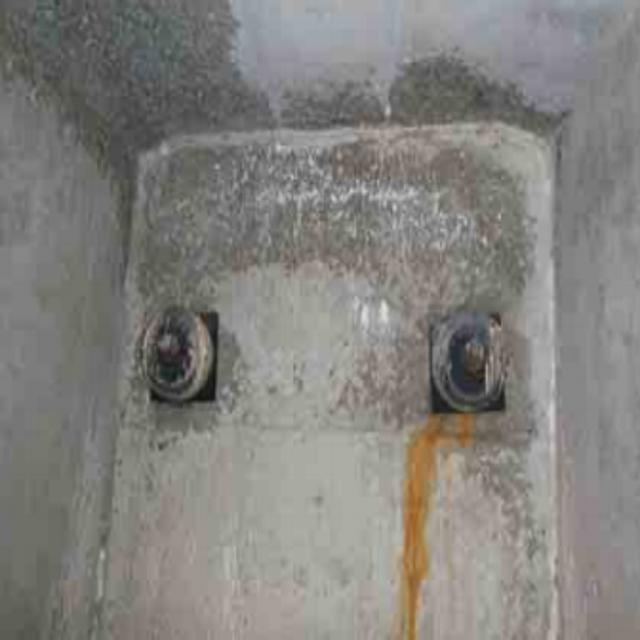leakage: (387, 408, 494, 640)
